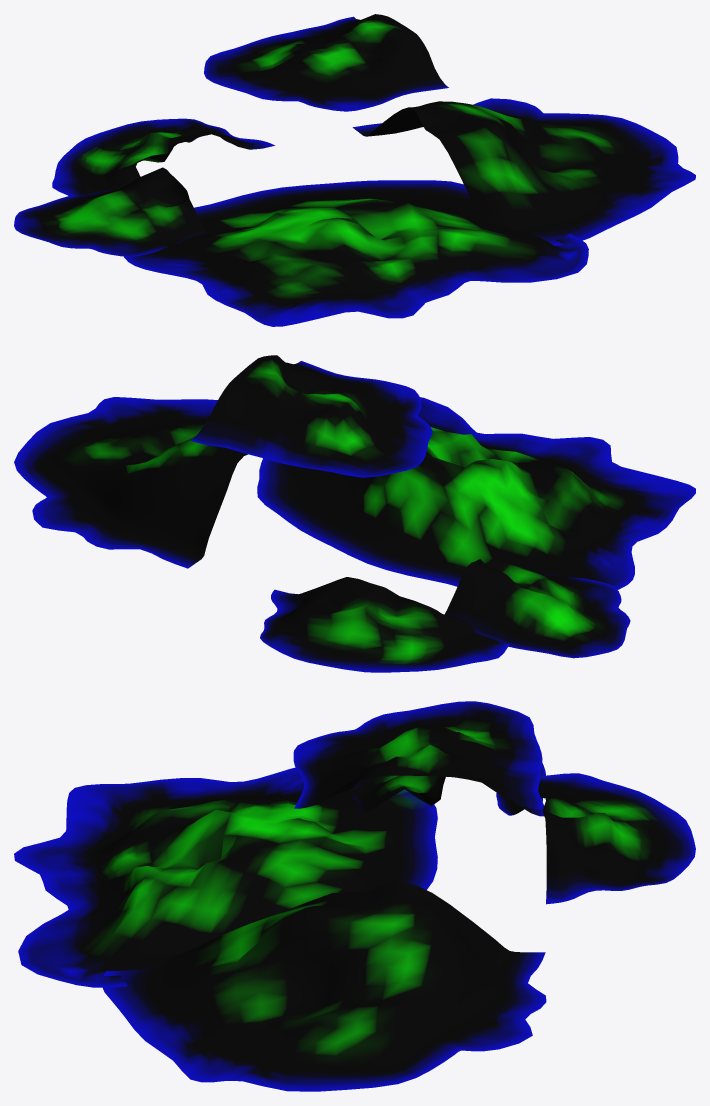
The model's file is DBK_Cinderblock_Rubble_Tile.FBX.
The picture shows the model from 3 angles, top to bottom: view 1: azimuth 30°, elevation 25°; view 2: azimuth 150°, elevation 25°; view 3: azimuth 270°, elevation 25°; orthographic projection. The views are drawn at different scales.
Visible parts, largest first — view 1: Cinderblock_Rubble; view 2: Cinderblock_Rubble; view 3: Cinderblock_Rubble.
Boxes of the visible parts, x1,y1,x2,y2 form: Cinderblock_Rubble: (14, 14, 695, 326); Cinderblock_Rubble: (14, 355, 695, 672); Cinderblock_Rubble: (14, 701, 695, 1091).
Size of the model in its own units: 3262 by 785 by 2595.
